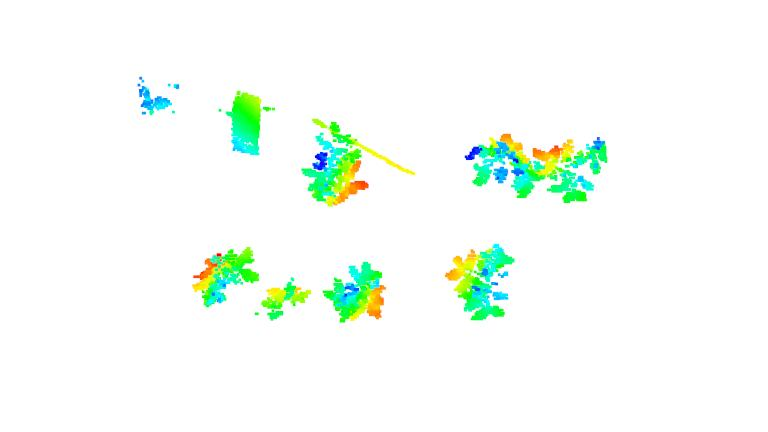chickpea: (302, 119, 370, 209), (445, 244, 524, 320), (531, 137, 613, 205), (466, 132, 542, 198), (190, 246, 262, 309), (320, 260, 388, 323), (260, 279, 312, 320)
